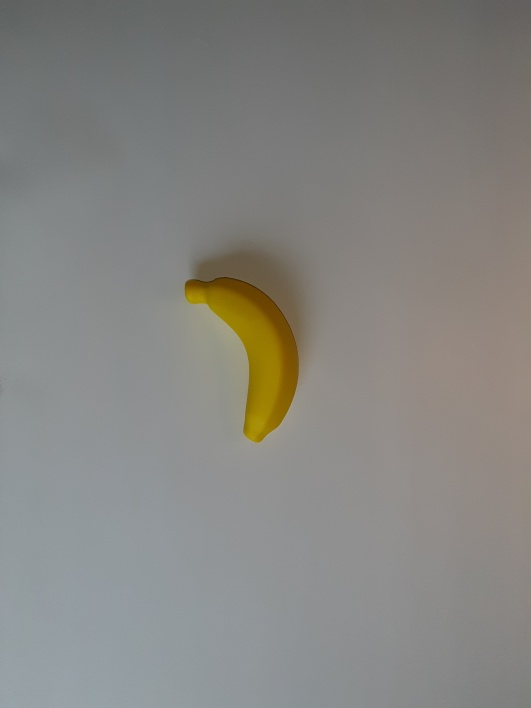banana: (186, 277, 296, 348)
